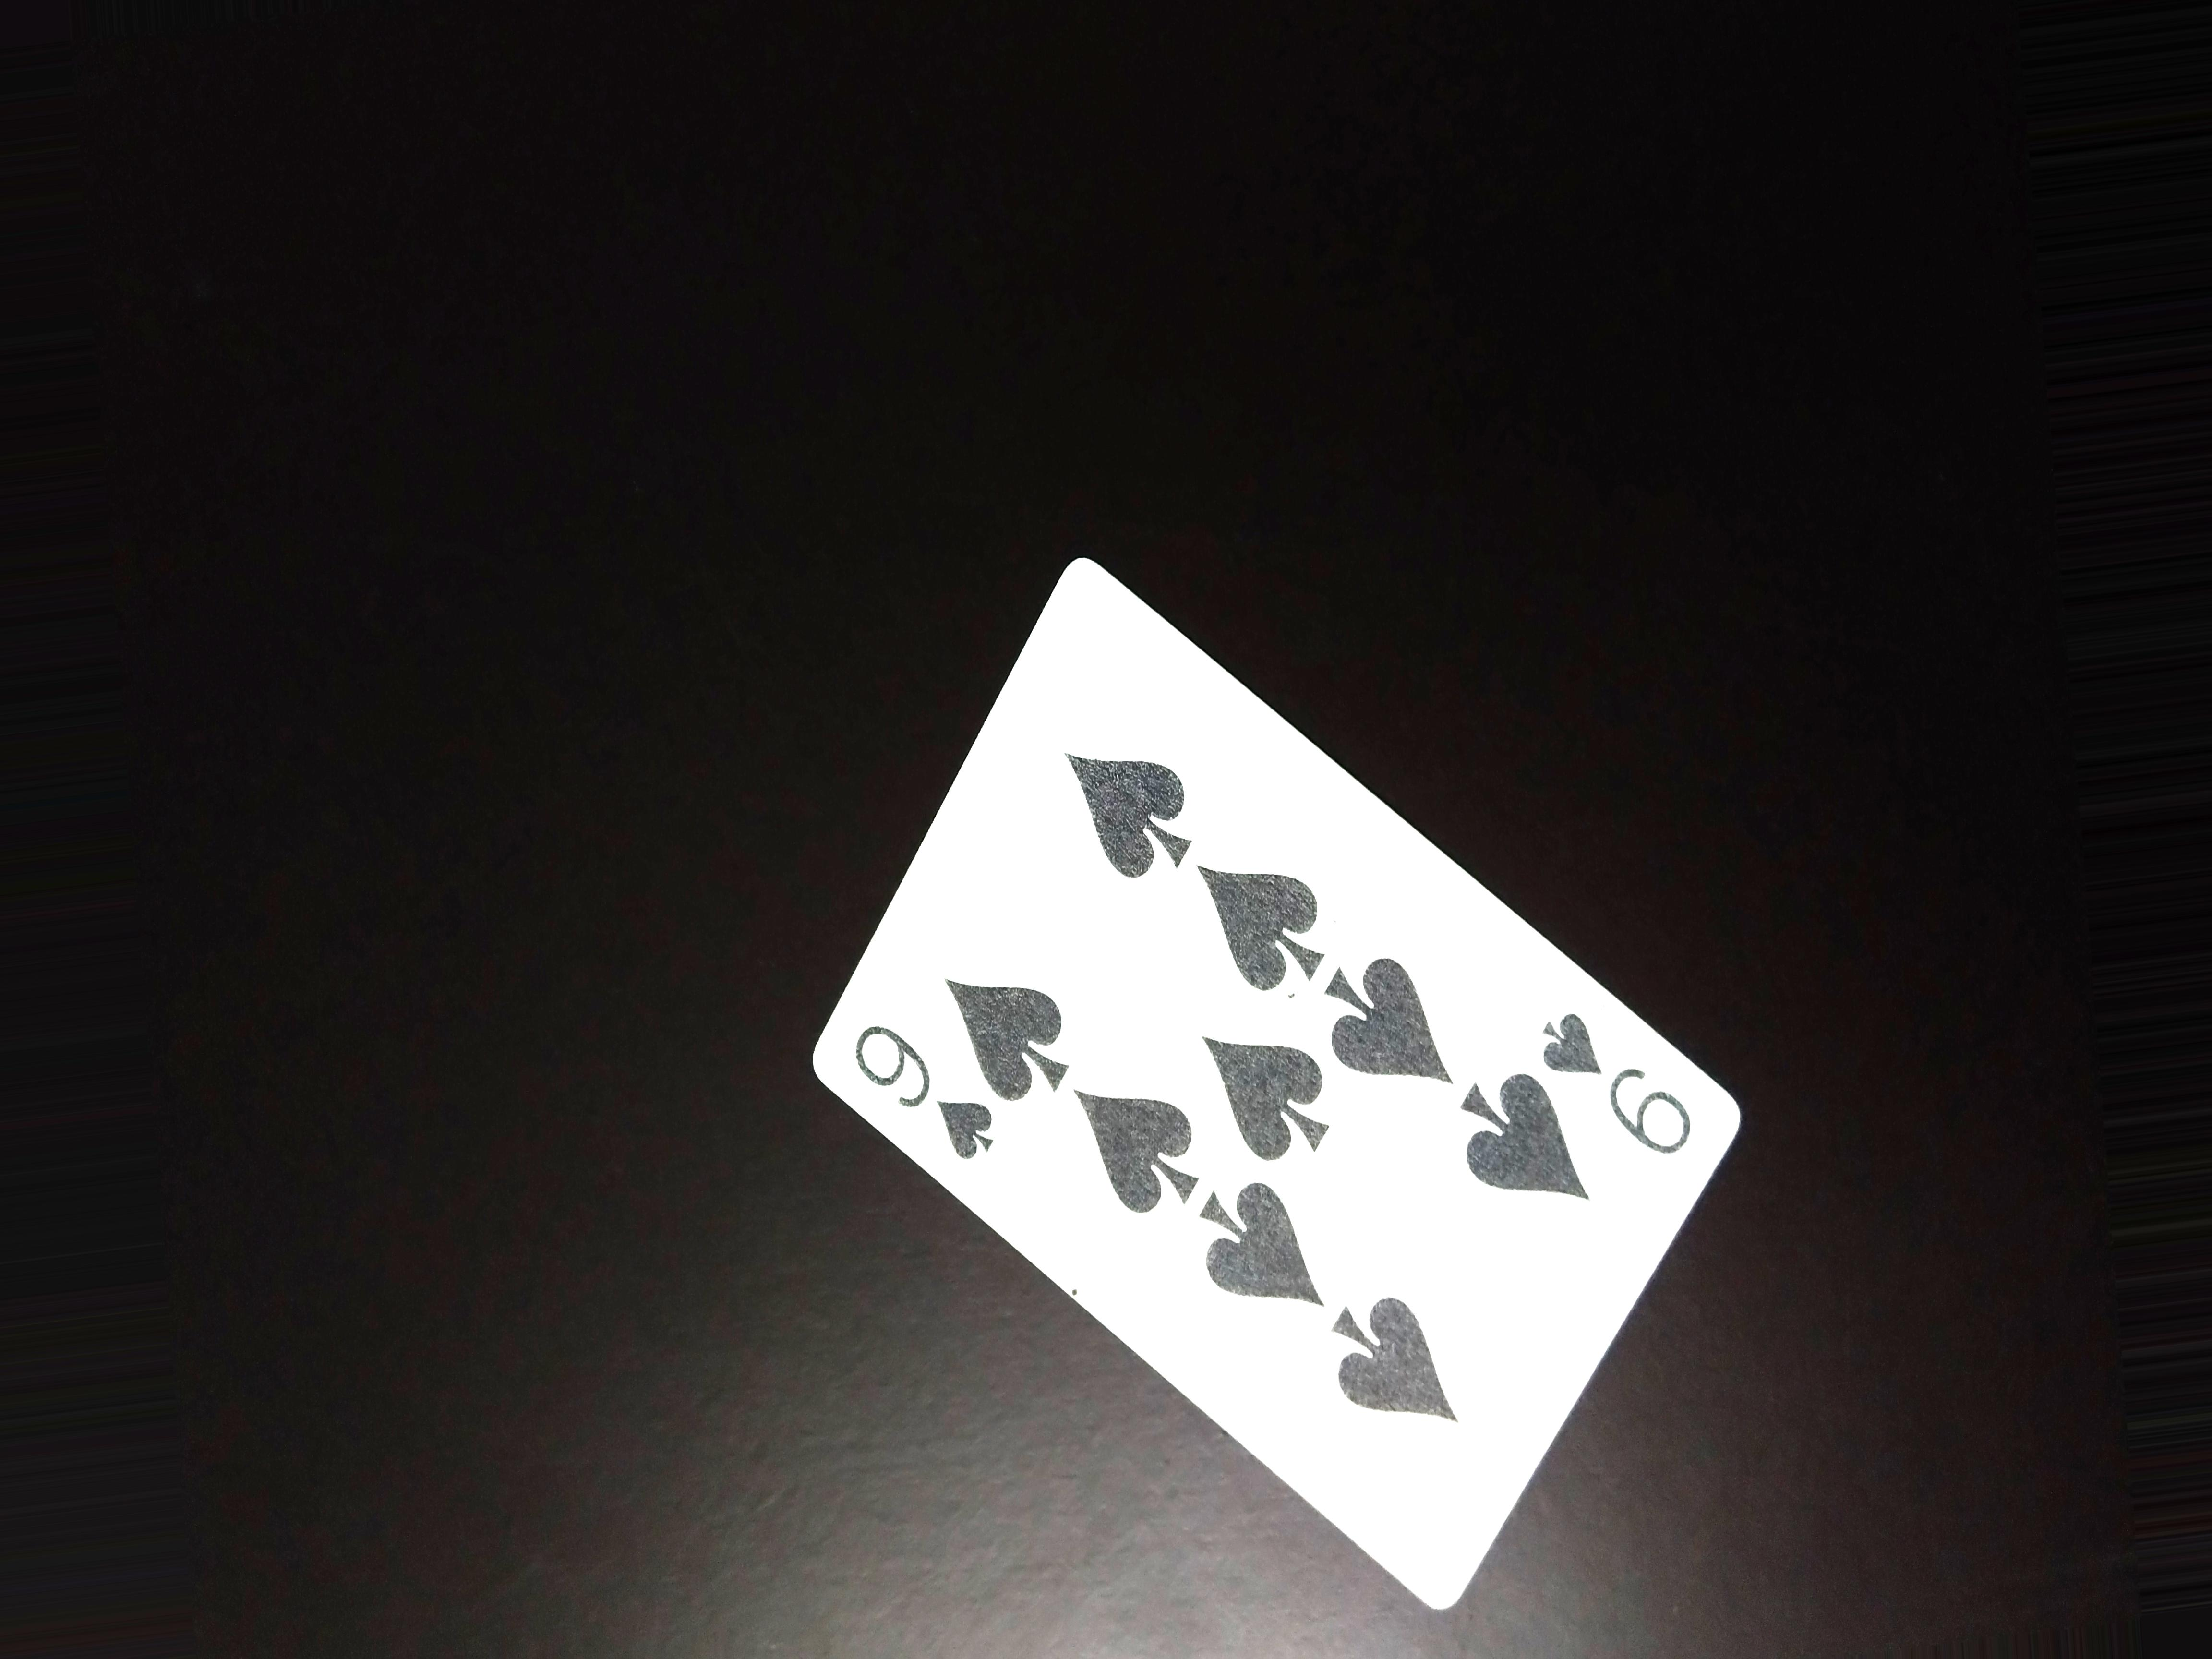9S: (845, 1019, 1064, 1206)
